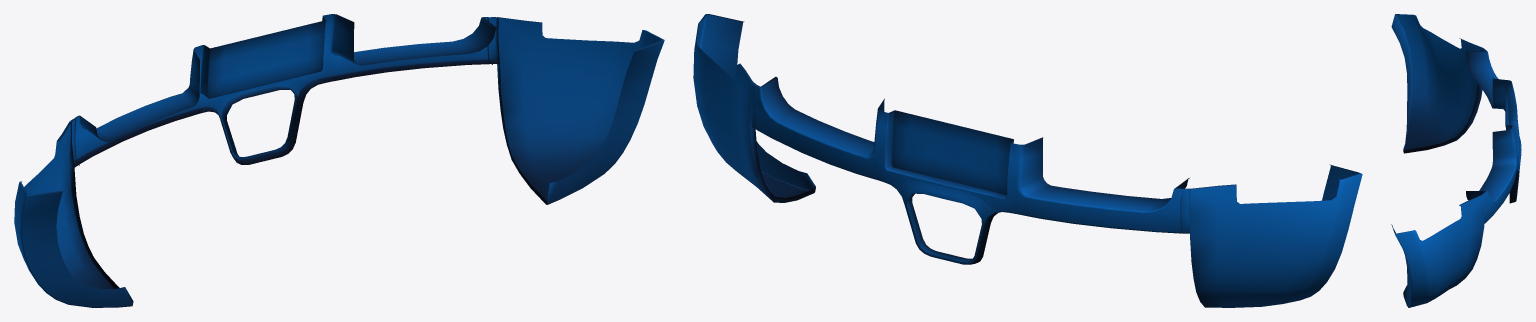
Rendered from Veyron_BB01_Duco.fbx.
3 renders of one model, left to right at view 1: azimuth 30°, elevation 25°; view 2: azimuth 150°, elevation 25°; view 3: azimuth 270°, elevation 25°, orthographic. The views are drawn at different scales.
Visible parts, largest first — view 1: Veyron_BB01_Duco; view 2: Veyron_BB01_Duco; view 3: Veyron_BB01_Duco.
Part boxes in pixels (bbox=[...]): Veyron_BB01_Duco: bbox=[14, 14, 664, 307]; Veyron_BB01_Duco: bbox=[693, 14, 1362, 307]; Veyron_BB01_Duco: bbox=[1391, 14, 1521, 307].
Bounding box in the file's own units: 197 × 49.96 × 48.97.
